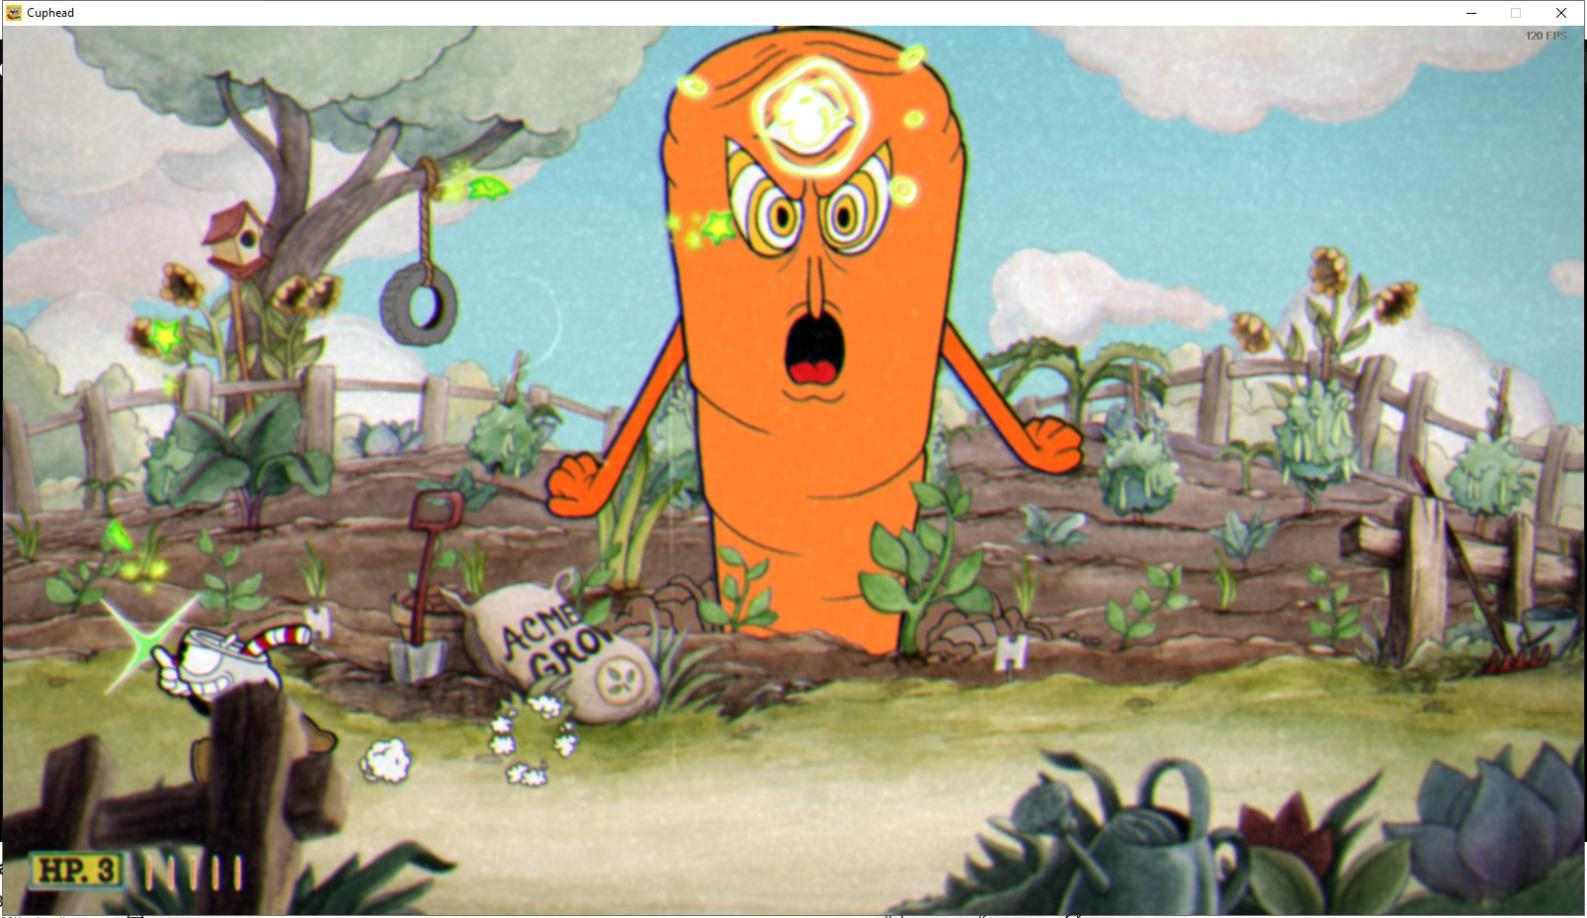hp3: (93, 852, 123, 890)
player: (145, 604, 356, 788)
ring: (747, 47, 878, 185)
